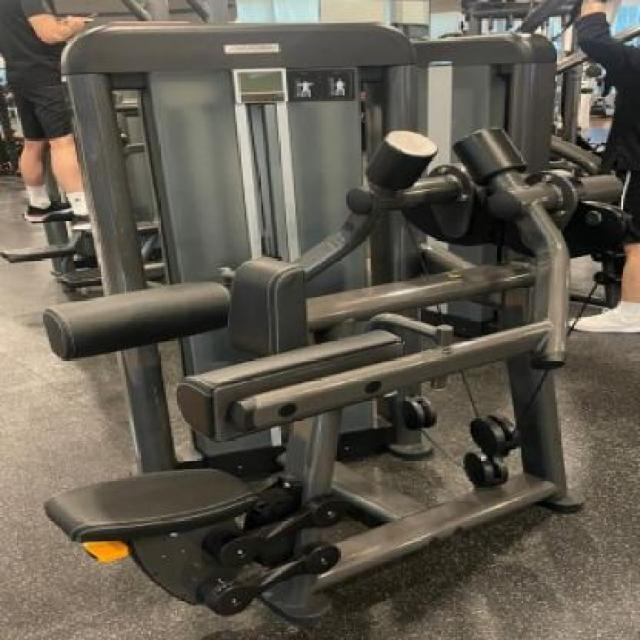lateral raises machine: (48, 132, 622, 626)
